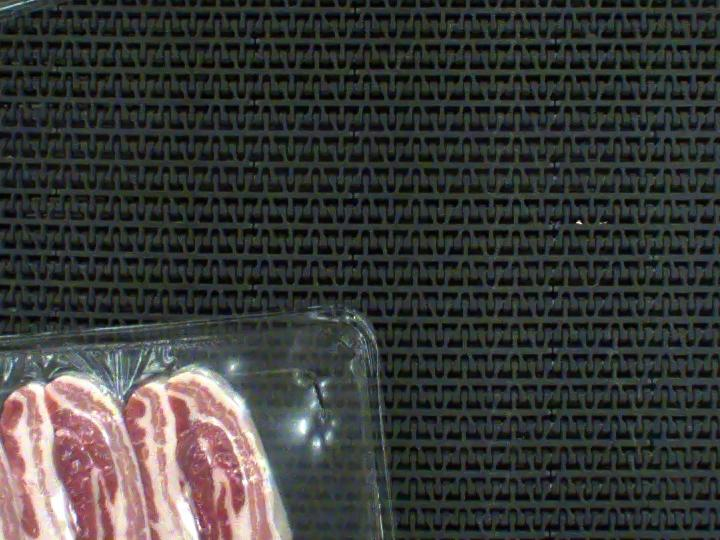unsealed: (0, 360, 235, 540)
